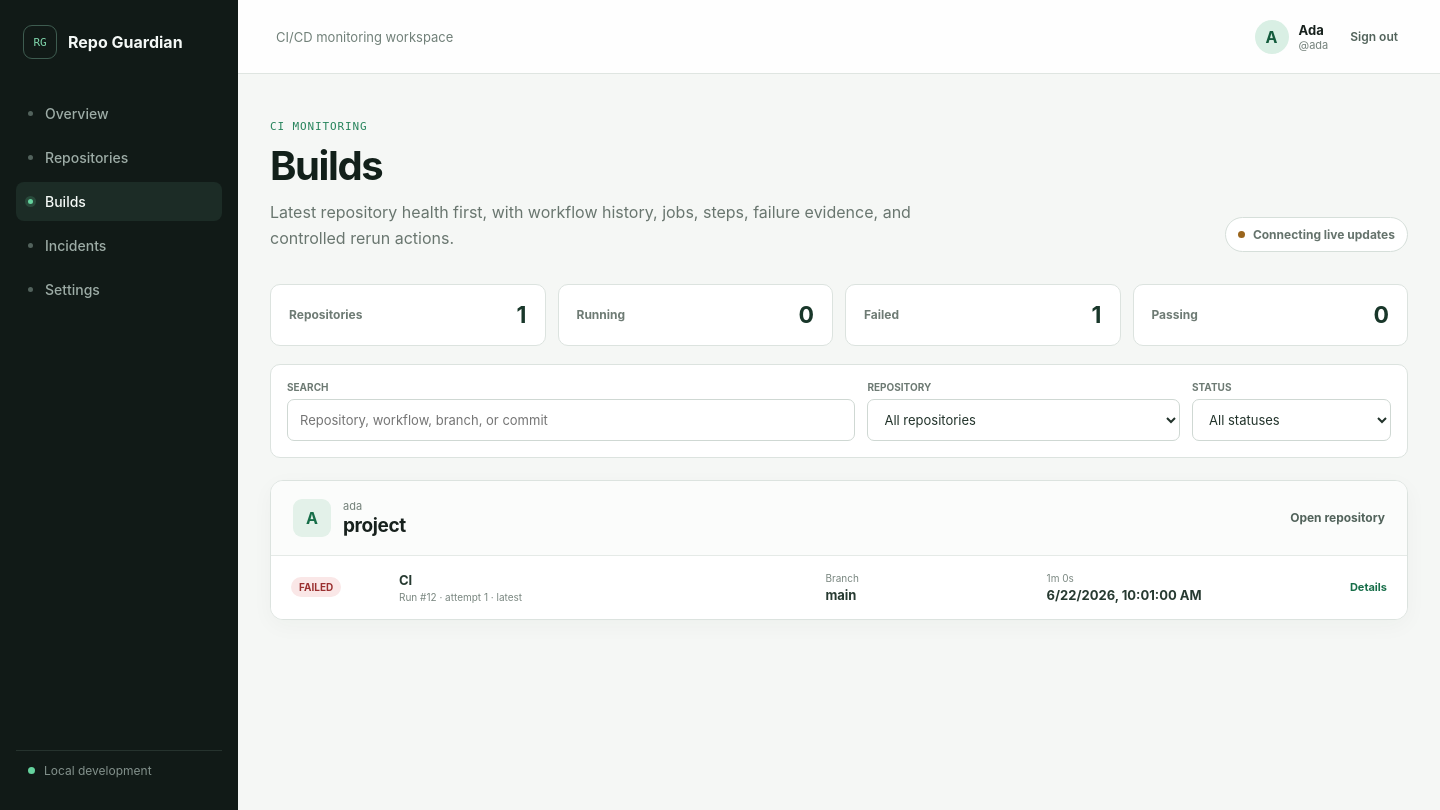
Scenario: dashboard › shows real failed build evidence
Check: the text "CI" is shown, box [399, 572, 412, 588]
Click the button named "Details": click(839, 587) [271, 556, 1407, 619]
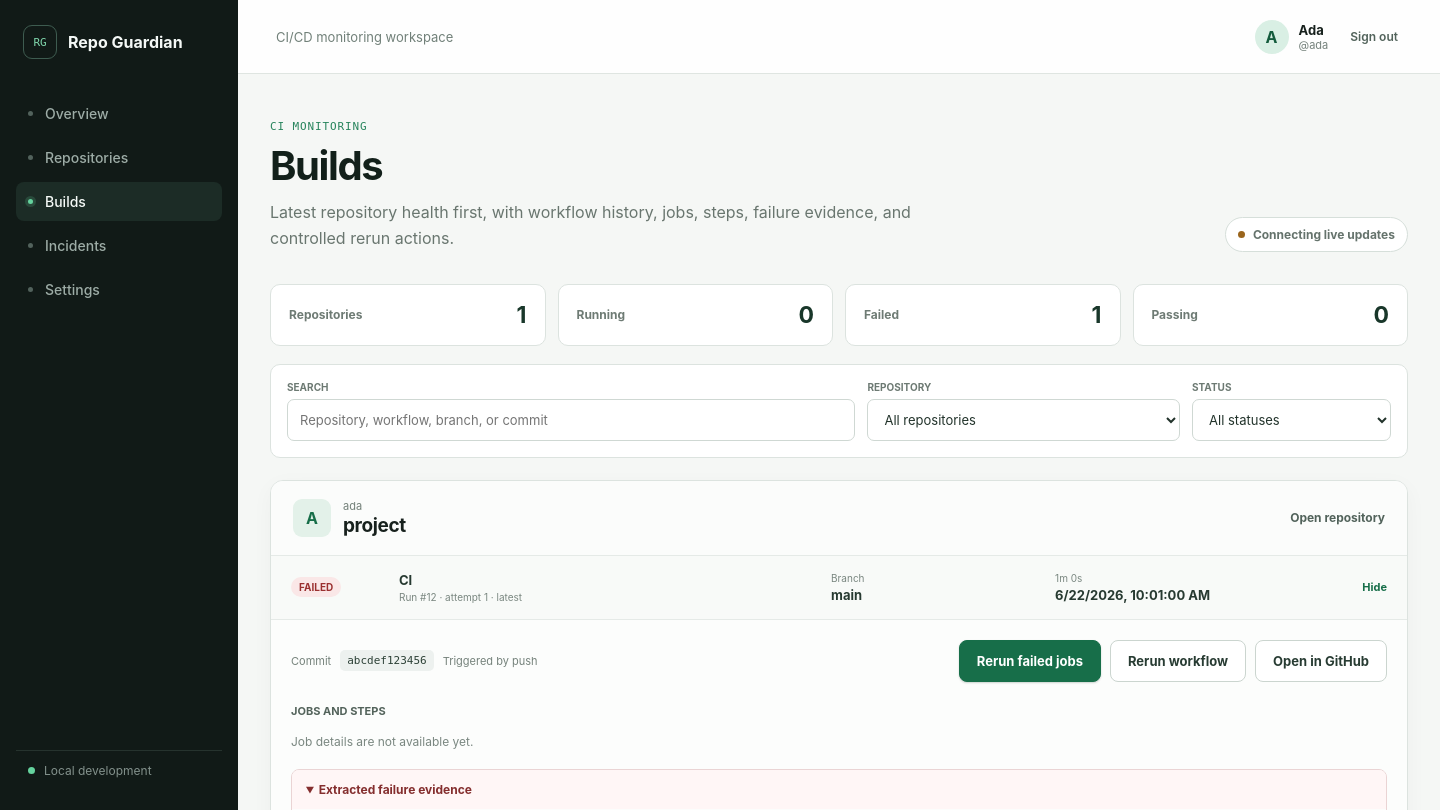
Check: the text "Failed" in the row of "Running" is shown, box [864, 307, 899, 322]
Check: the button "Rerun failed jobs" is shown, box [959, 640, 1101, 682]
